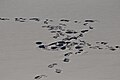human_foot_print: (36, 19, 119, 62)
